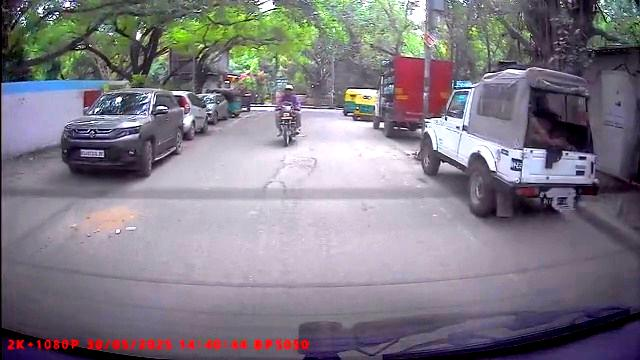motorcycle_with_helmet: (273, 83, 303, 149)
